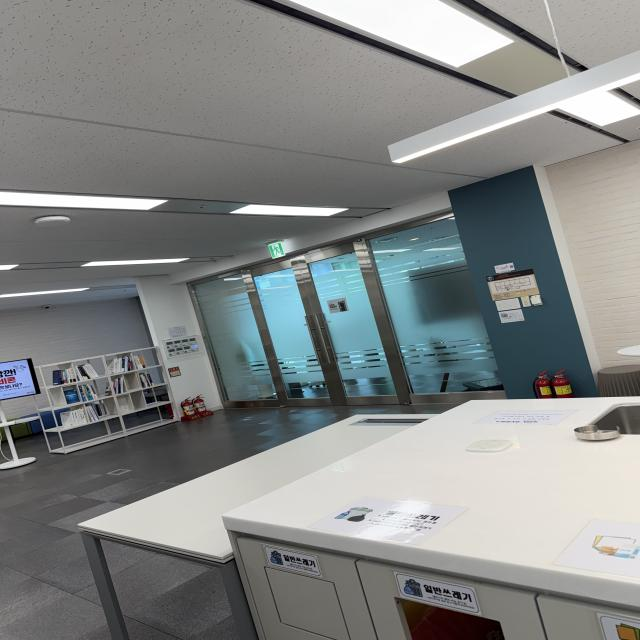front_door: (189, 212, 504, 408)
